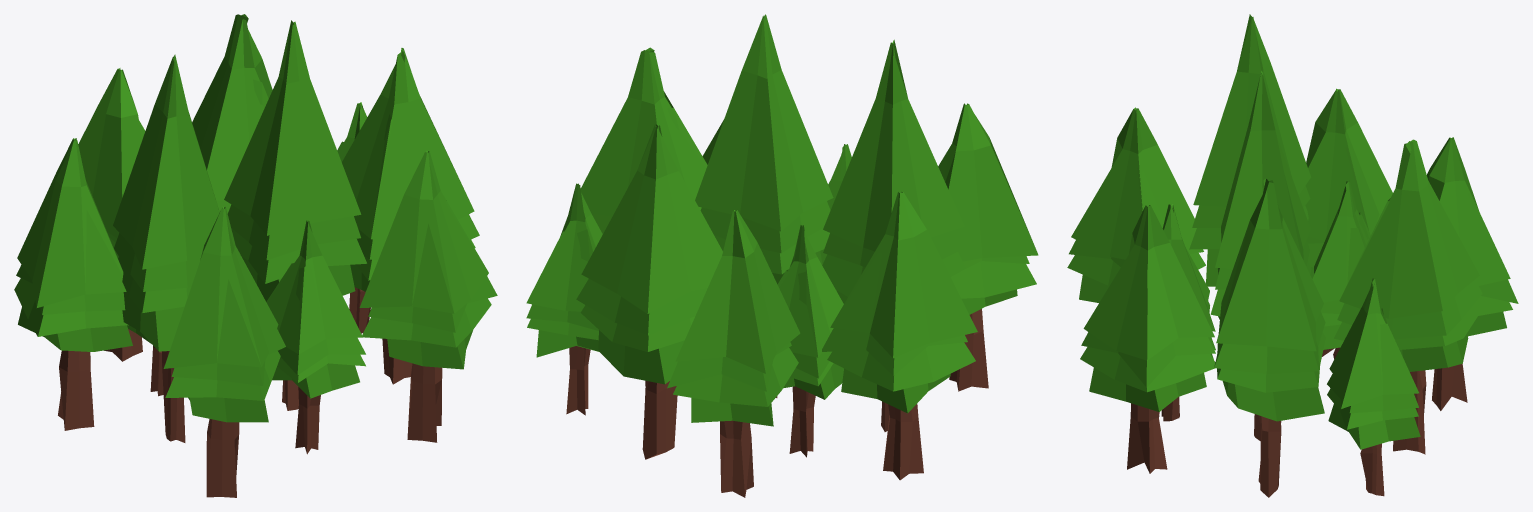
Rendered from Tree_small_02.006.fbx.
3 views of the same model, side by side, from view 1: azimuth 30°, elevation 25°; view 2: azimuth 150°, elevation 25°; view 3: azimuth 270°, elevation 25° (orthographic). The views are drawn at different scales.
Visible parts, largest first — view 1: Tree_small_02.006; view 2: Tree_small_02.006; view 3: Tree_small_02.006.
Part boxes in pixels (box(x1,y1,x2,y2)): Tree_small_02.006: box(14, 14, 497, 497); Tree_small_02.006: box(526, 14, 1038, 497); Tree_small_02.006: box(1067, 14, 1518, 497).
Bounding box in the file's own units: 16.05 × 14.64 × 16.24.
